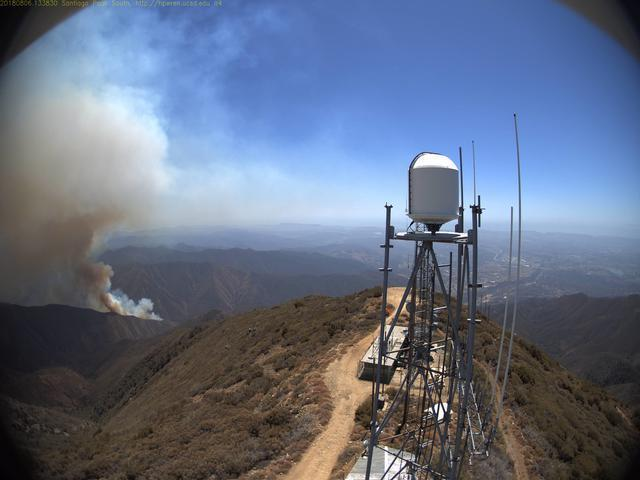Smoke: (1, 75, 169, 326)
